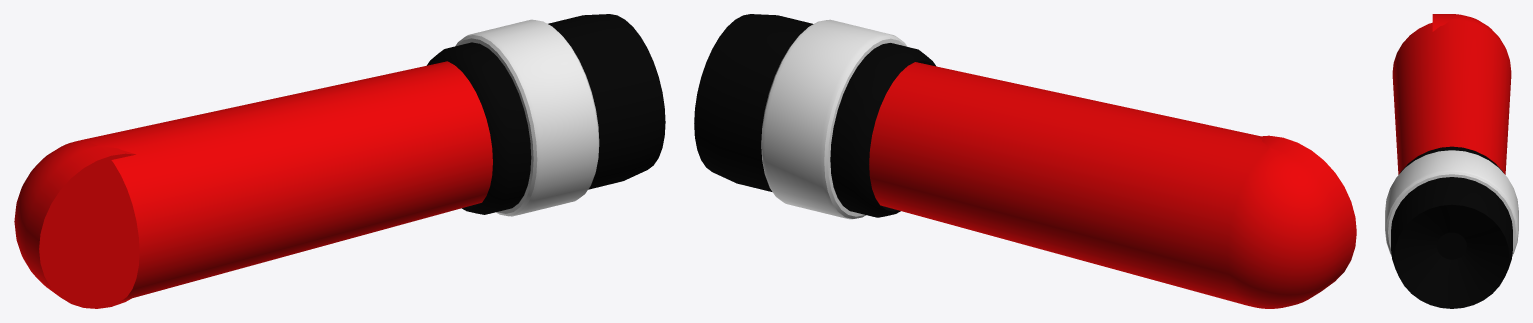
File: Character_arm.fbx
The picture shows the model from 3 angles, left to right: view 1: azimuth 30°, elevation 25°; view 2: azimuth 150°, elevation 25°; view 3: azimuth 270°, elevation 25°; orthographic projection. The views are drawn at different scales.
Parts seen in each view (by area): view 1: Cylinder; view 2: Cylinder; view 3: Cylinder.
Boxes of the visible parts, x1=… form: Cylinder: x1=14, y1=14, x2=665, y2=308; Cylinder: x1=694, y1=14, x2=1356, y2=308; Cylinder: x1=1385, y1=14, x2=1518, y2=308.
Size of the model in its own units: 9955 by 2700 by 2700.
